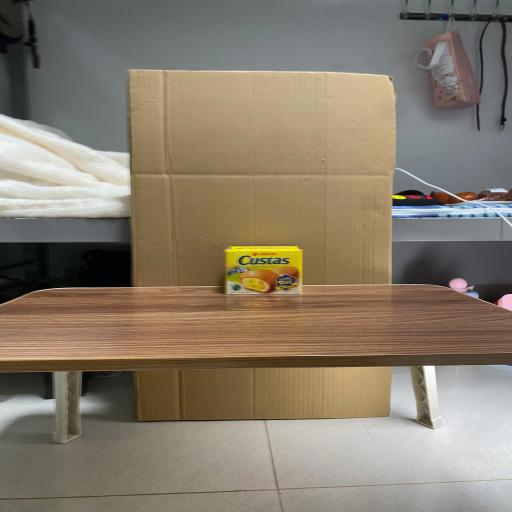custas: (225, 246, 303, 295)
